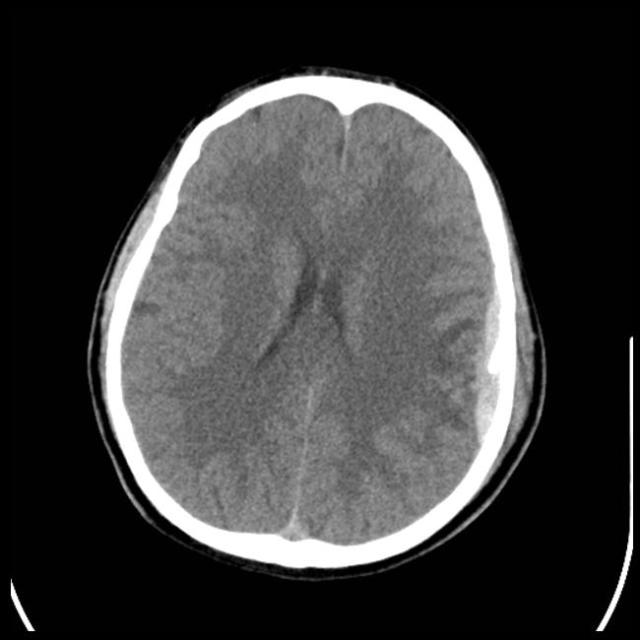lesion: (90, 68, 542, 573)
